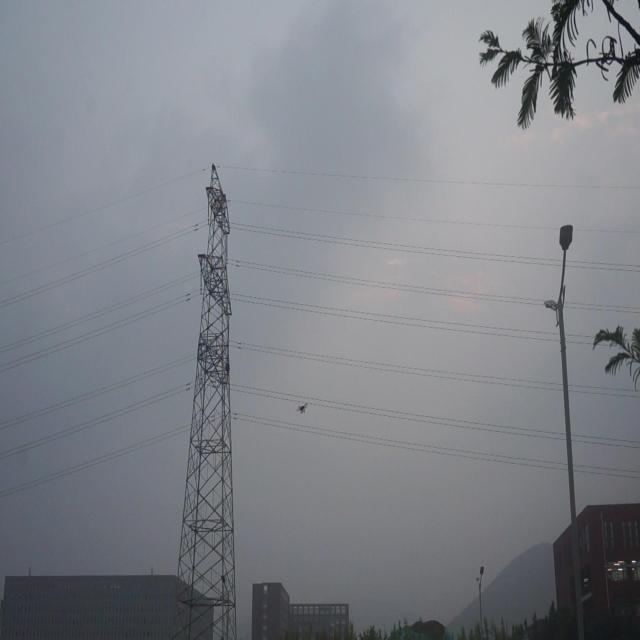drone: (296, 399, 310, 420)
